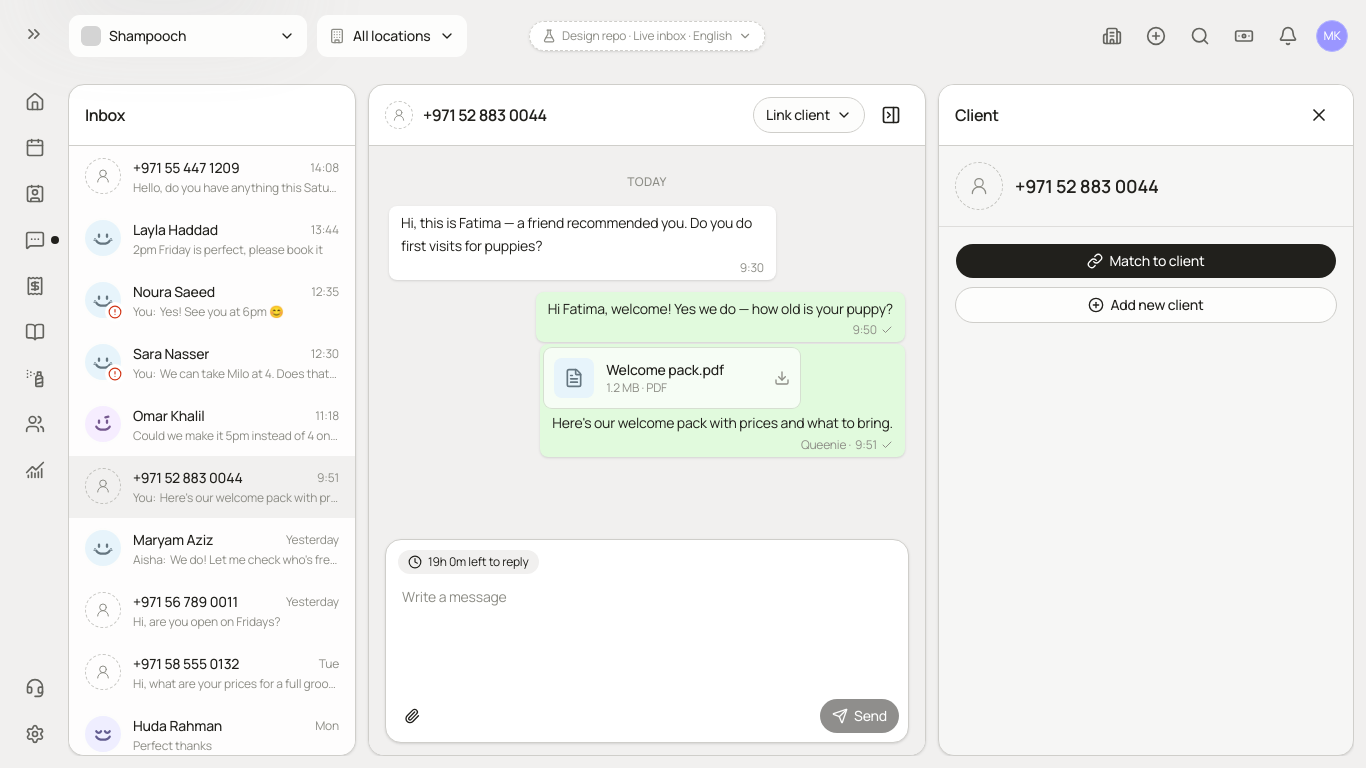
Test: Inbox Phase 0 — identity (IX-C3, IX-C4) › IX-C4 rows 1-2: a short dialog, the chat's phone, nothing prefilled
Click the button "Add new client" at (1146, 305), box [955, 287, 1337, 323]
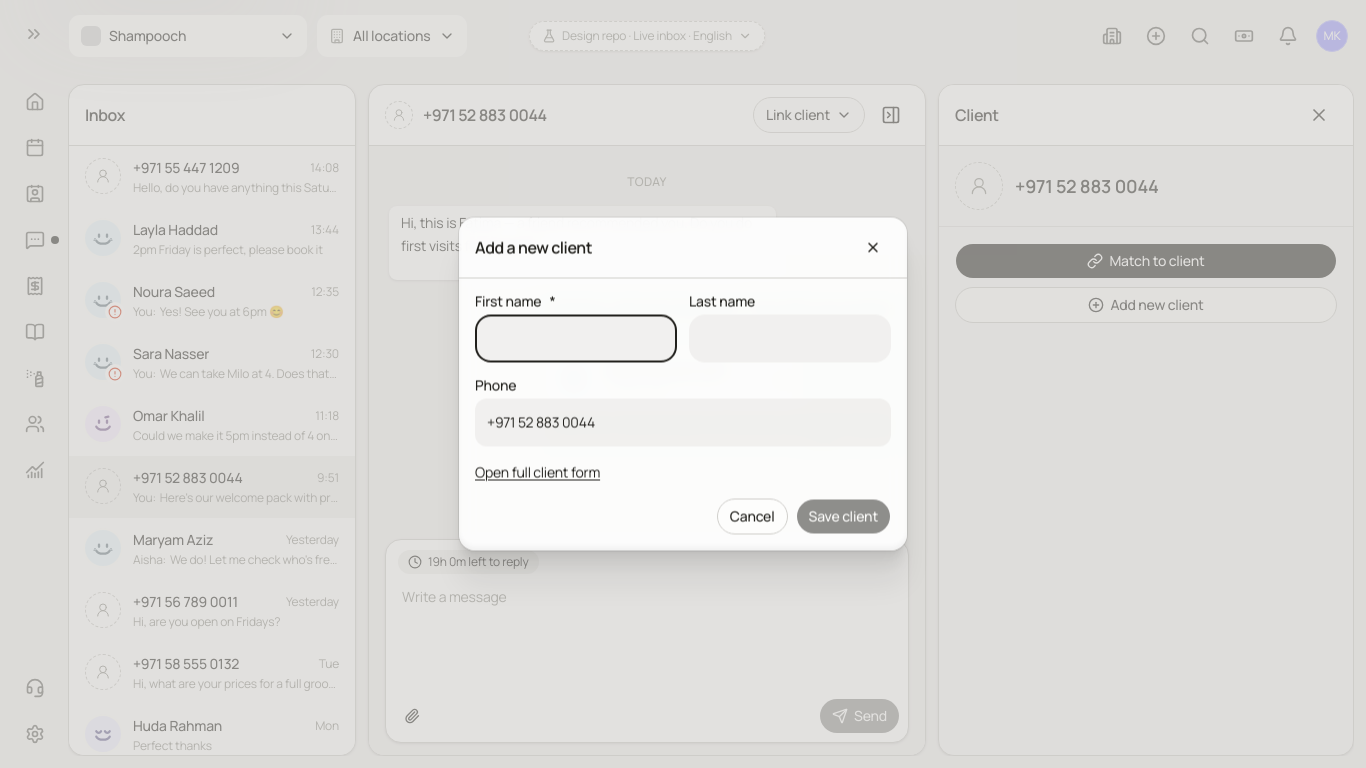
expect the heading "Add a new client" is shown: met, box [475, 236, 592, 258]
expect the field labelled "First name *" is empty: met, box [475, 314, 677, 362]
expect the text "+971 52 883 0044" is shown: met, box [487, 412, 595, 432]
